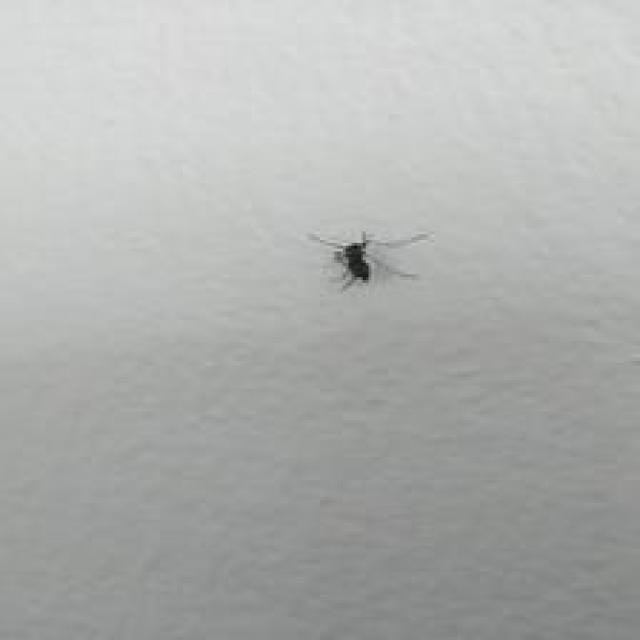Aedes albopictus: (307, 227, 430, 293)
